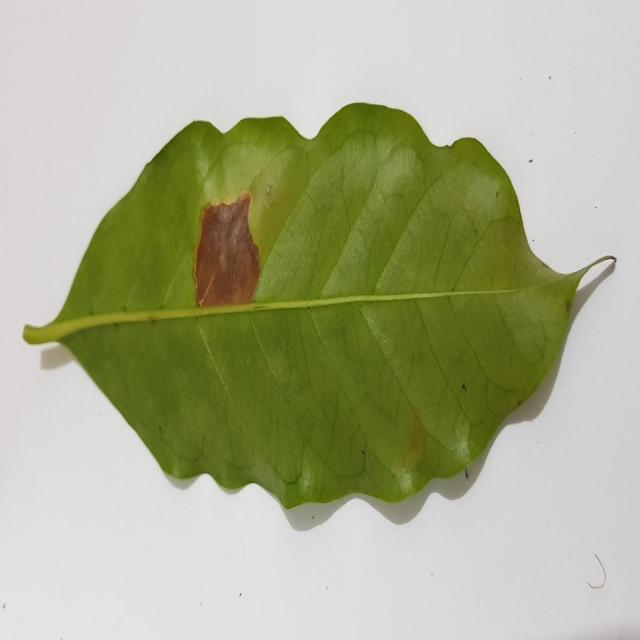Plaga-Minador: (22, 102, 616, 526)
